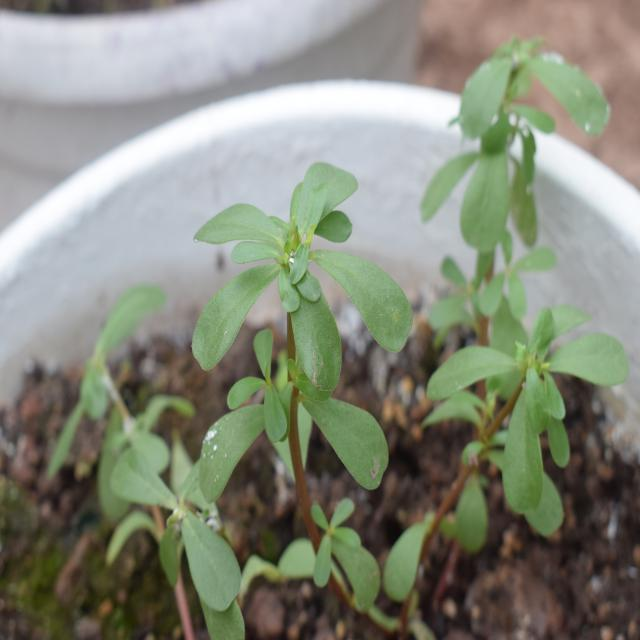purslane: (185, 134, 420, 554), (424, 227, 616, 588), (411, 0, 599, 312)
